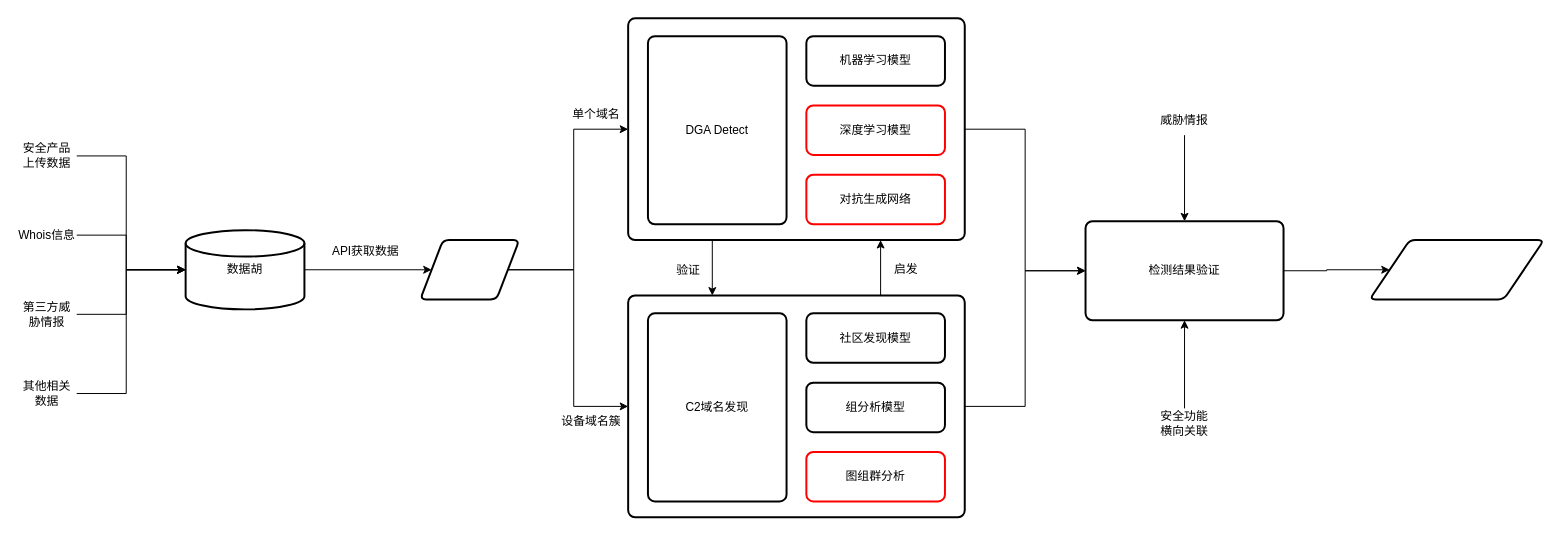
This 1561x535 diagram has some shape labels left out. Each missing label, with the centre of its shape:
"DNS数据" belongs at point (469, 269).
"经过验证的 活跃C2域名" belongs at point (1456, 269).
